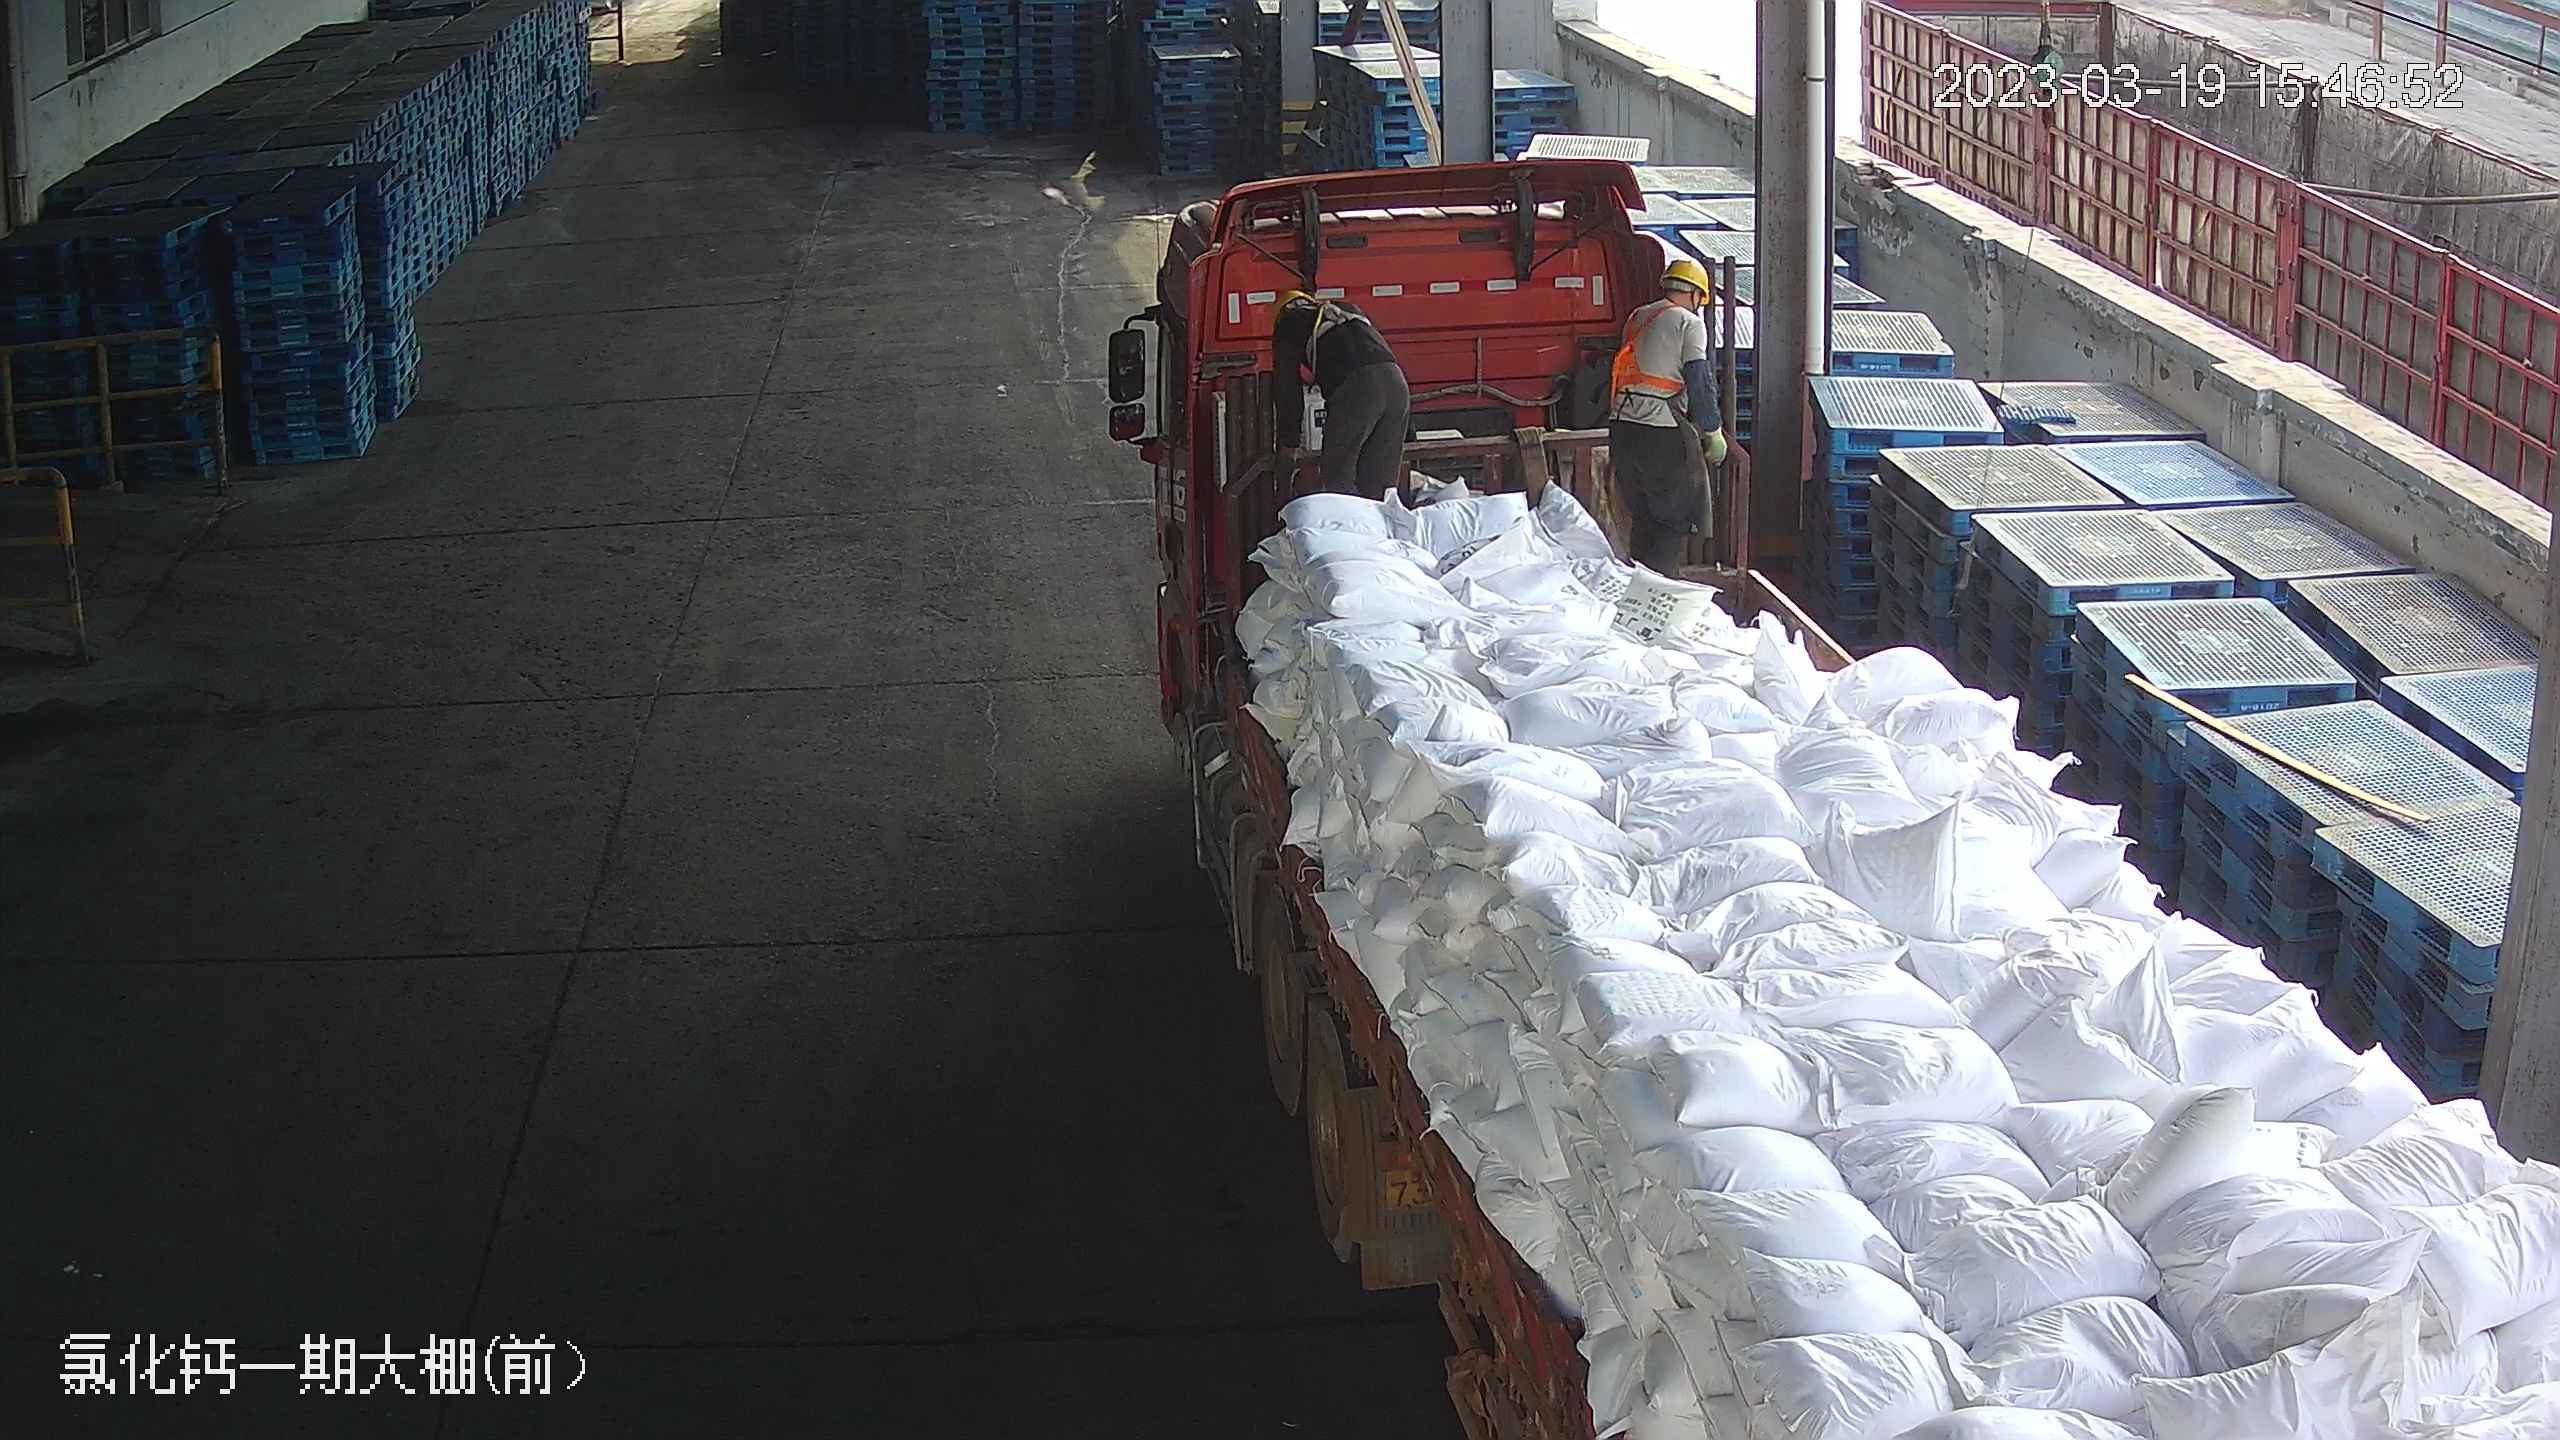belt: (1604, 303, 1697, 398), (1301, 296, 1373, 357)
head: (1604, 256, 1720, 373), (1276, 287, 1372, 364)
helmet: (1658, 254, 1713, 302), (1274, 285, 1314, 324)
people: (1590, 255, 1739, 597), (1270, 284, 1418, 511)
truck: (1091, 157, 2529, 1440)
